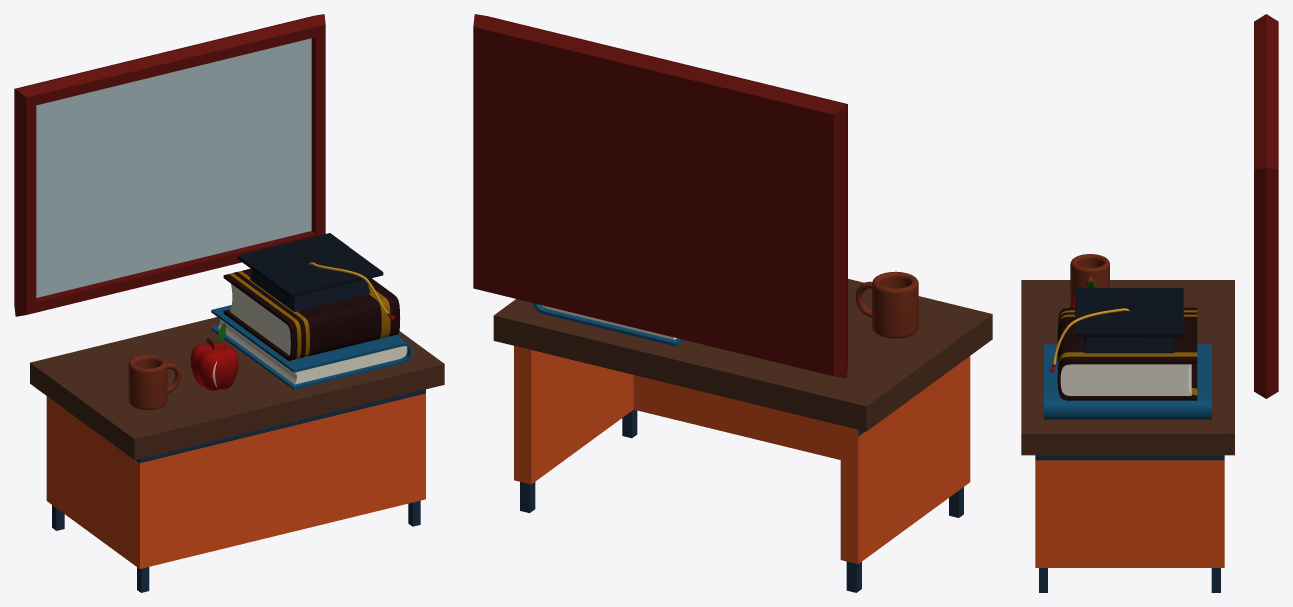
File: BOARD&DESK.FBX
The picture shows the model from 3 angles, left to right: view 1: azimuth 30°, elevation 25°; view 2: azimuth 150°, elevation 25°; view 3: azimuth 270°, elevation 25°; orthographic projection. The views are drawn at different scales.
Parts seen in each view (by area): view 1: CHALKBOARD, DESK, THICK BOOK, GRAD CAP, THIN BOOK, MUG, APPLE; view 2: CHALKBOARD, DESK, MUG, THIN BOOK; view 3: DESK, CHALKBOARD, THICK BOOK, GRAD CAP, THIN BOOK, MUG.
Boxes of the visible parts, box(x1,y1,x2,y2) form: CHALKBOARD: box(14, 14, 325, 316); DESK: box(30, 317, 444, 592); THICK BOOK: box(223, 268, 400, 360); GRAD CAP: box(237, 233, 394, 320); THIN BOOK: box(211, 305, 412, 389); MUG: box(128, 354, 180, 410); APPLE: box(190, 323, 238, 391); CHALKBOARD: box(473, 14, 847, 378); DESK: box(493, 279, 992, 592); MUG: box(855, 271, 918, 338); THIN BOOK: box(533, 303, 683, 346); DESK: box(1021, 280, 1234, 592); CHALKBOARD: box(1254, 14, 1278, 398); THICK BOOK: box(1057, 307, 1197, 400); GRAD CAP: box(1049, 288, 1183, 372); THIN BOOK: box(1043, 344, 1211, 419); MUG: box(1070, 254, 1109, 301).
Size of the model in its own units: 93.98 by 123 by 66.33.
